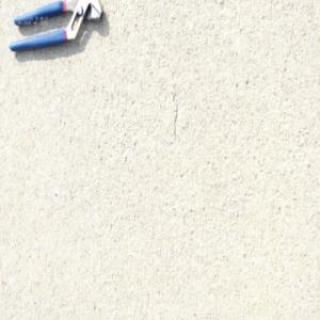Pliertrack_idkeyframe: (6, 0, 102, 53)
